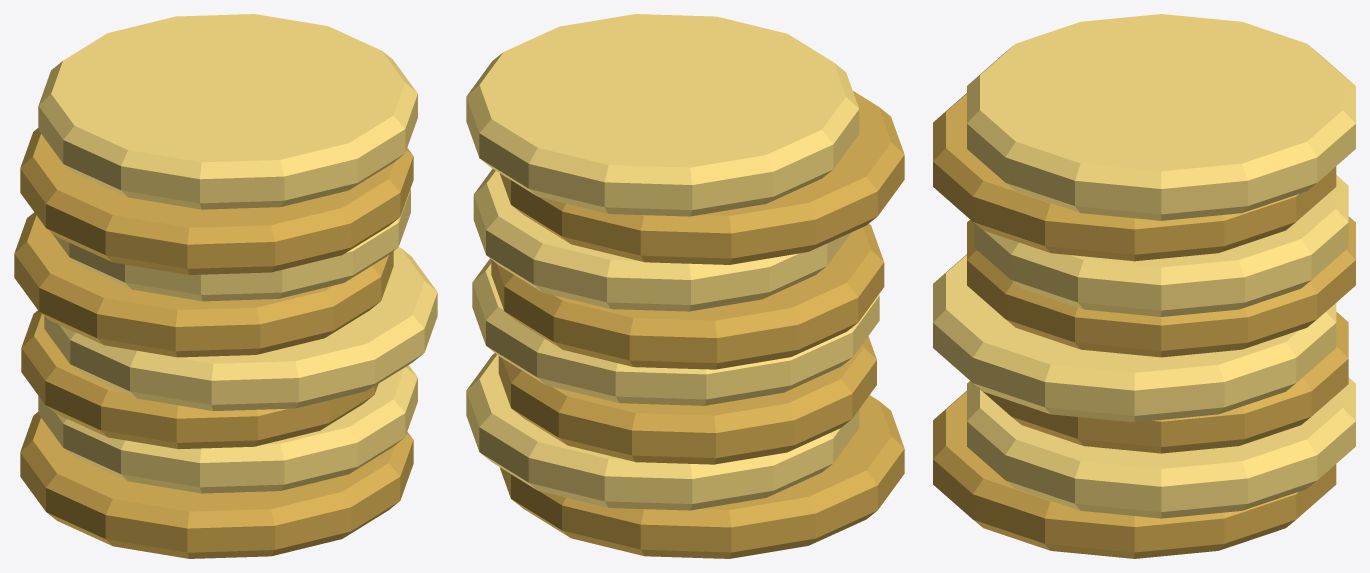
The model's file is game-ui-icon-library-coin-stack-1418ba7f__18968.glb.
3 renders of one model, left to right at view 1: azimuth 30°, elevation 25°; view 2: azimuth 150°, elevation 25°; view 3: azimuth 270°, elevation 25°, orthographic. The views are drawn at different scales.
Parts seen in each view (by area): view 1: coin-stack; view 2: coin-stack; view 3: coin-stack.
Boxes of the visible parts, x1,y1,x2,y2 form: coin-stack: (14, 14, 437, 558); coin-stack: (466, 14, 904, 558); coin-stack: (933, 14, 1355, 558).
Bounding box in the file's own units: 0.8377 × 0.8285 × 0.8.
